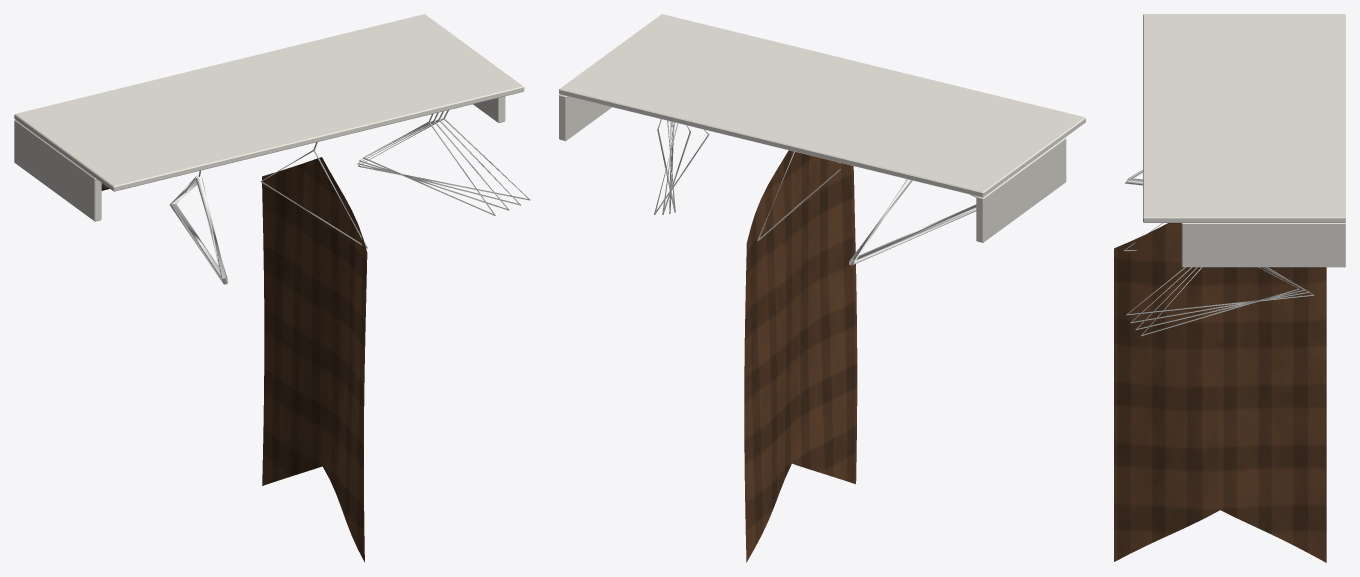
Rendered from closet_rod.glb.
3 views of the same model, side by side, from view 1: azimuth 30°, elevation 25°; view 2: azimuth 150°, elevation 25°; view 3: azimuth 270°, elevation 25° (orthographic). The views are drawn at different scales.
Parts seen in each view (by area): view 1: closet_rod; view 2: closet_rod; view 3: closet_rod.
Part boxes in pixels (left/top/right/bottom): closet_rod: left=14, top=14, right=530, bottom=562; closet_rod: left=559, top=14, right=1085, bottom=562; closet_rod: left=1114, top=14, right=1345, bottom=562.
Bounding box in the file's own units: 1.01 × 0.985 × 0.48.
5 materials, 2 textured.
